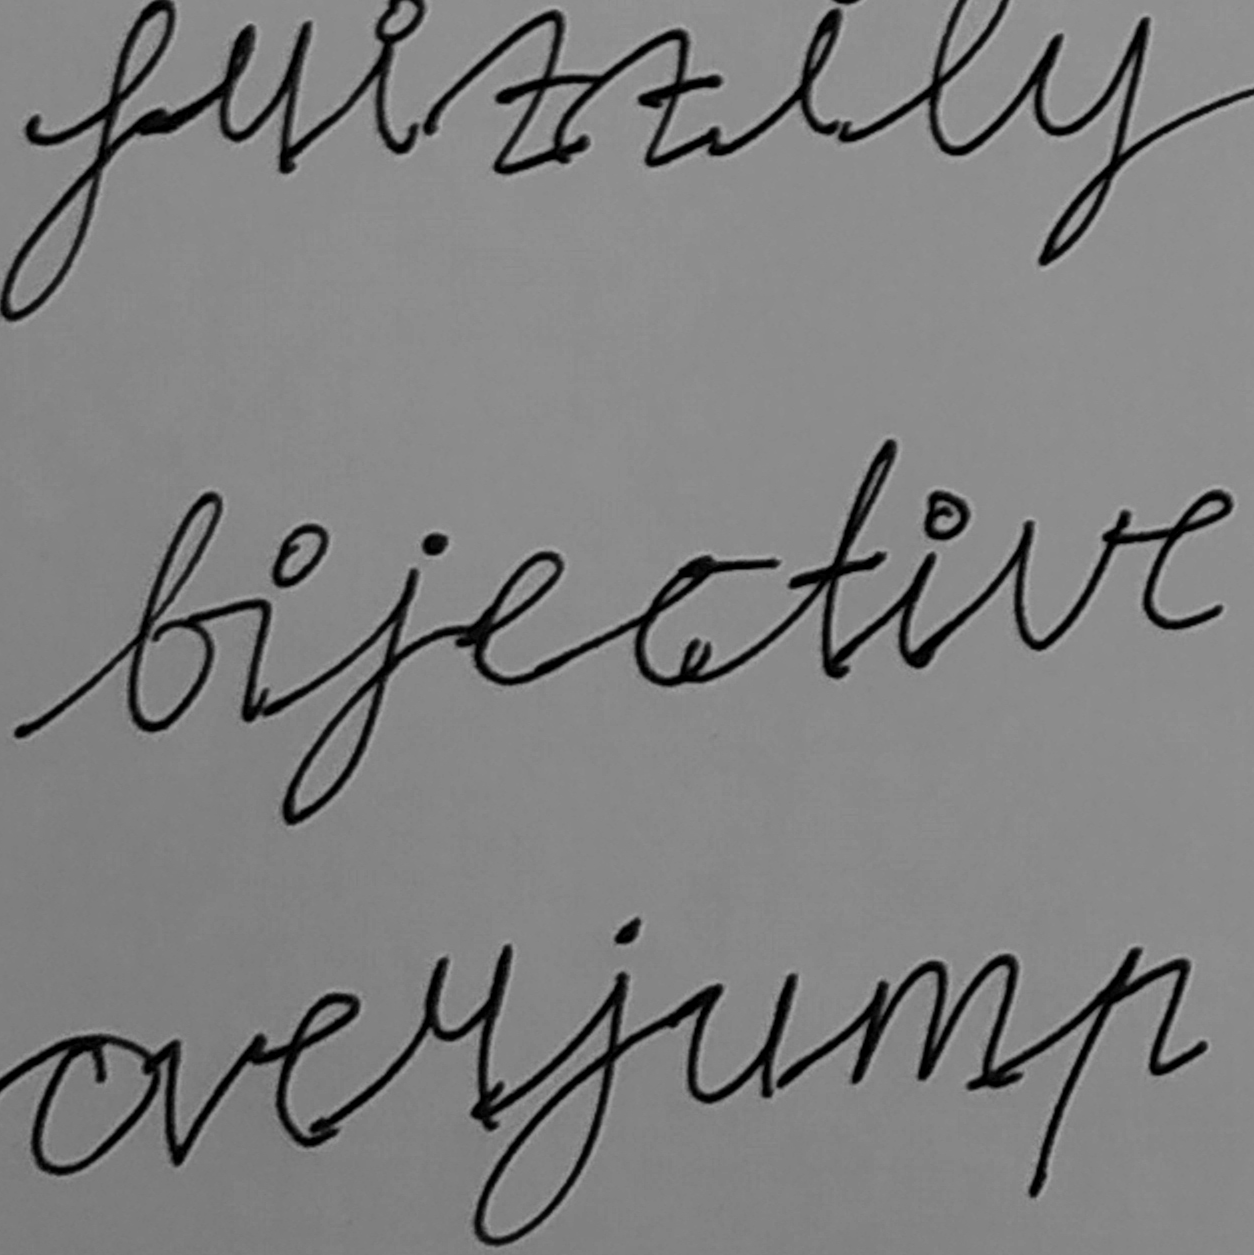b: (119, 486, 225, 738)
c: (630, 550, 758, 691)
e: (469, 548, 573, 690), (1139, 486, 1237, 634)
i: (232, 517, 330, 726), (895, 485, 973, 672)
j: (274, 526, 451, 832)
t: (782, 436, 899, 685)
v: (1003, 505, 1135, 656)
